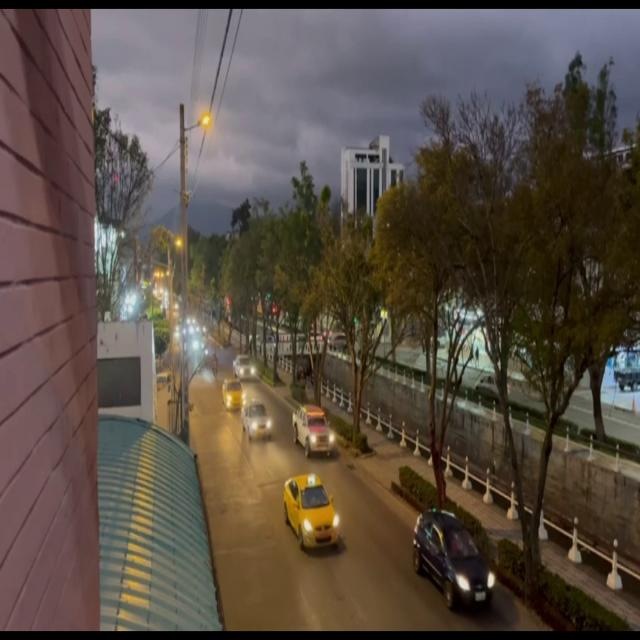CMT: (292, 401, 335, 457), (233, 355, 256, 380)
MOTORCYCLE: (211, 352, 219, 379)
SED: (412, 509, 497, 612), (285, 474, 341, 550), (242, 402, 273, 442), (222, 381, 245, 412)
